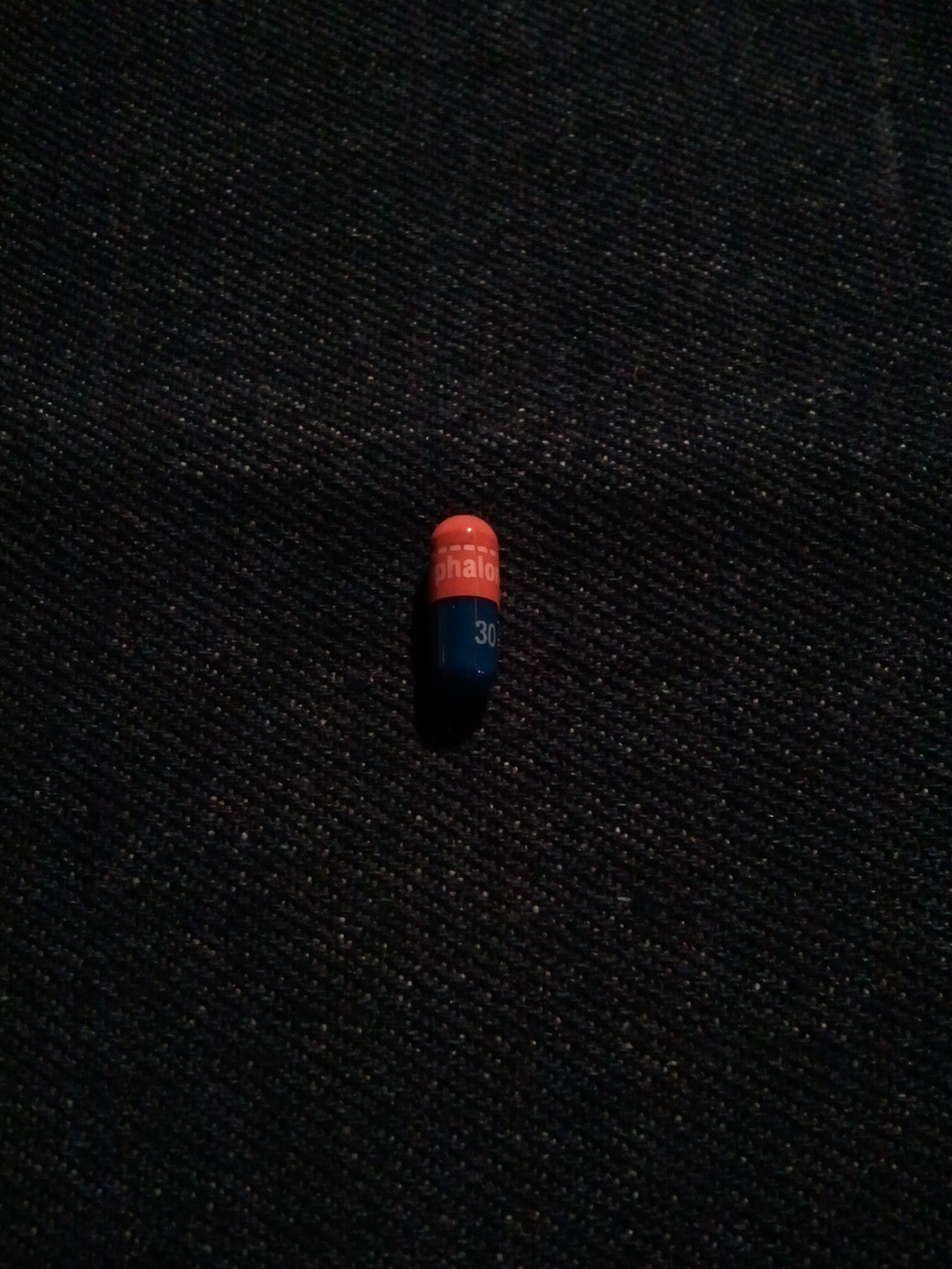Pill: (407, 501, 521, 726)
